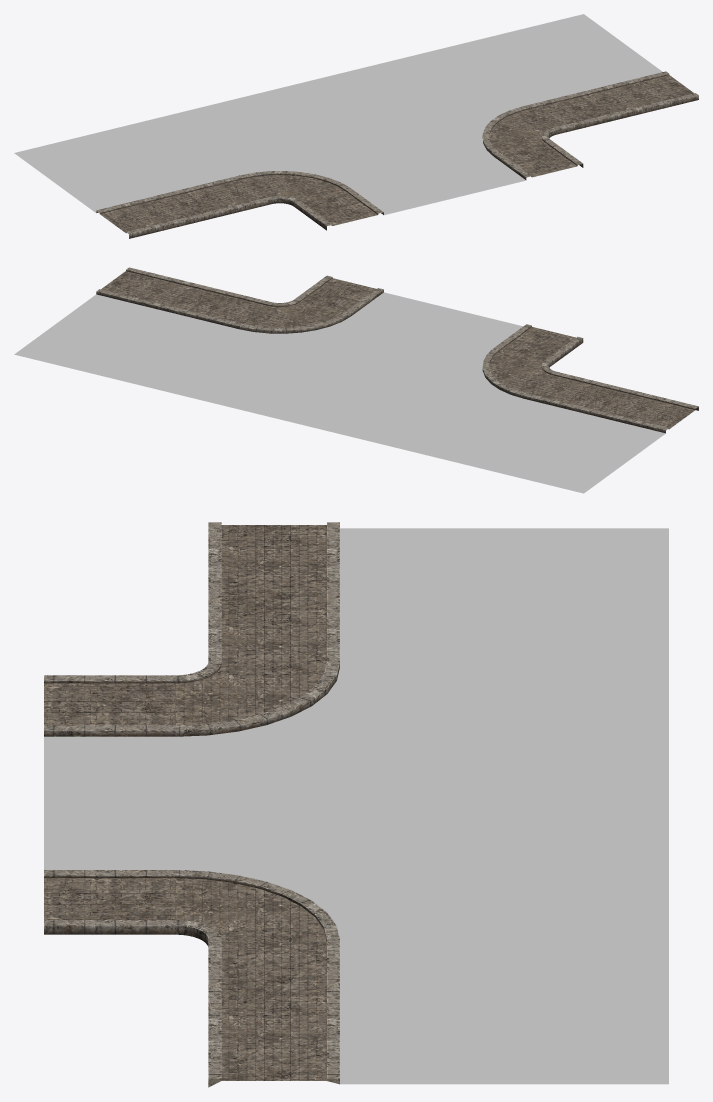
Rendered from Road6D.fbx.
3 renders of one model, top to bottom at view 1: azimuth 30°, elevation 25°; view 2: azimuth 150°, elevation 25°; view 3: azimuth 270°, elevation 25°, orthographic. The views are drawn at different scales.
Parts seen in each view (by area): view 1: polySurface50; view 2: polySurface50; view 3: polySurface50.
Boxes of the visible parts, bbox=[...] form: polySurface50: bbox=[14, 14, 698, 238]; polySurface50: bbox=[14, 267, 698, 493]; polySurface50: bbox=[44, 522, 668, 1087].
Bounding box in the file's own units: 20 × 0.1527 × 9.5.
